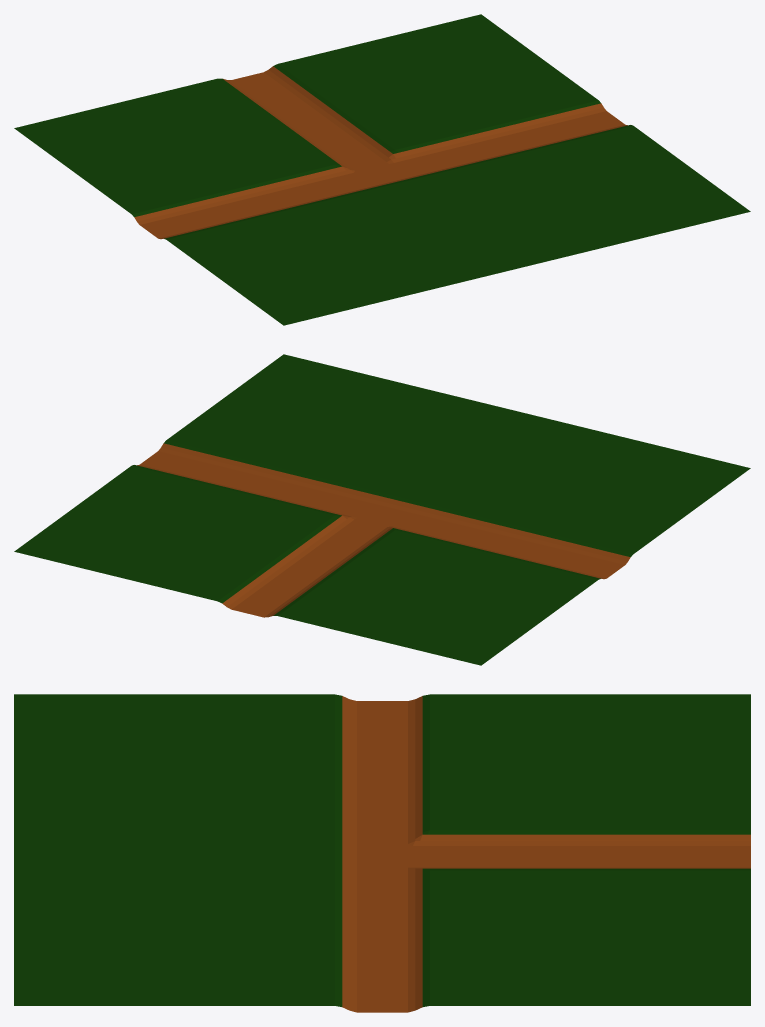
Rendered from Terrain_Part_Plane_10.fbx.
3 views of the same model, one above another, from view 1: azimuth 30°, elevation 25°; view 2: azimuth 150°, elevation 25°; view 3: azimuth 270°, elevation 25° (orthographic). The views are drawn at different scales.
Visible parts, largest first — view 1: Terrain_Part_Plane_10; view 2: Terrain_Part_Plane_10; view 3: Terrain_Part_Plane_10.
Part boxes in pixels (x1=…): Terrain_Part_Plane_10: x1=14, y1=14, x2=750, y2=325; Terrain_Part_Plane_10: x1=14, y1=354, x2=750, y2=665; Terrain_Part_Plane_10: x1=14, y1=694, x2=750, y2=1012.
Size of the model in its own units: 2000 by 20 by 2000.
